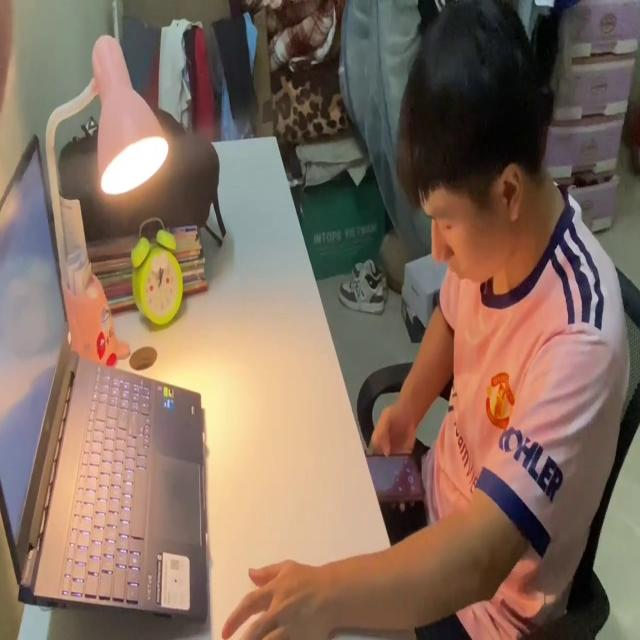laptop: (0, 125, 212, 630)
phone: (359, 446, 421, 510)
student: (221, 0, 629, 640)
